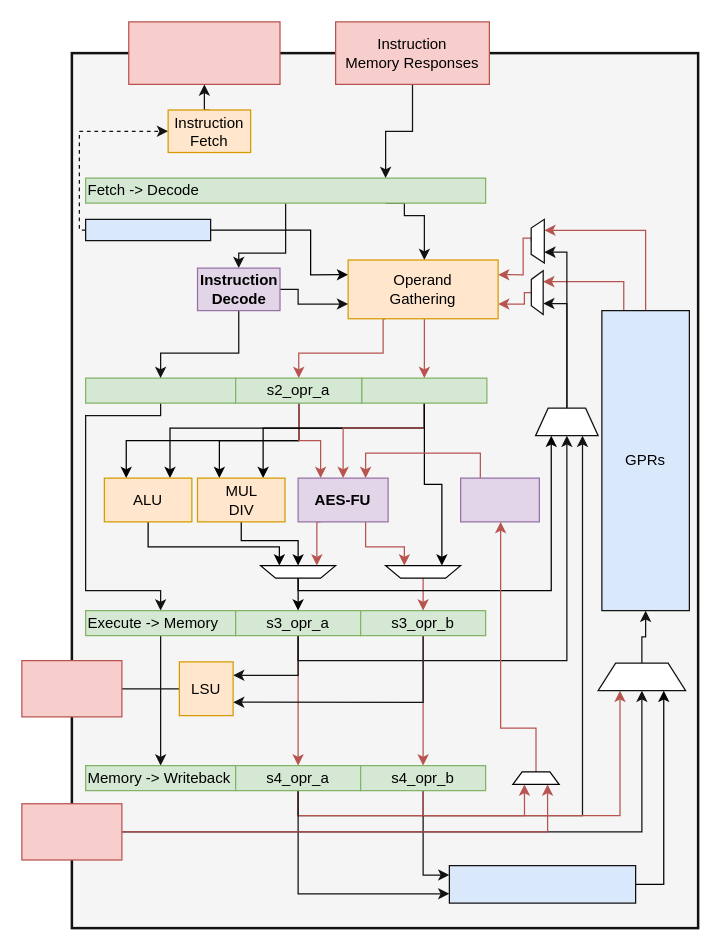
The diagram is 721 pixels wide and 951 high, and some of its shapes have lost their labels. The centre of each missing label's shape, as x and y in pixels:
Control & Status Registers: (x=542, y=883)
Data Memory Requests: (x=71, y=688)
Data Memory Responses: (x=71, y=831)
Decode -> Execute: (x=160, y=390)
Instruction Memory Requests: (x=204, y=52)
MRF: (x=499, y=499)
Program Counter: (x=147, y=229)
s2_opr_b: (x=424, y=390)
